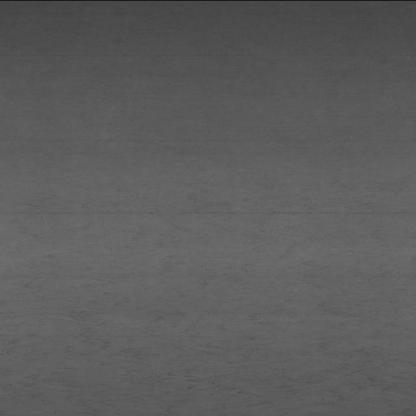silk_spot: (24, 224, 403, 404)
